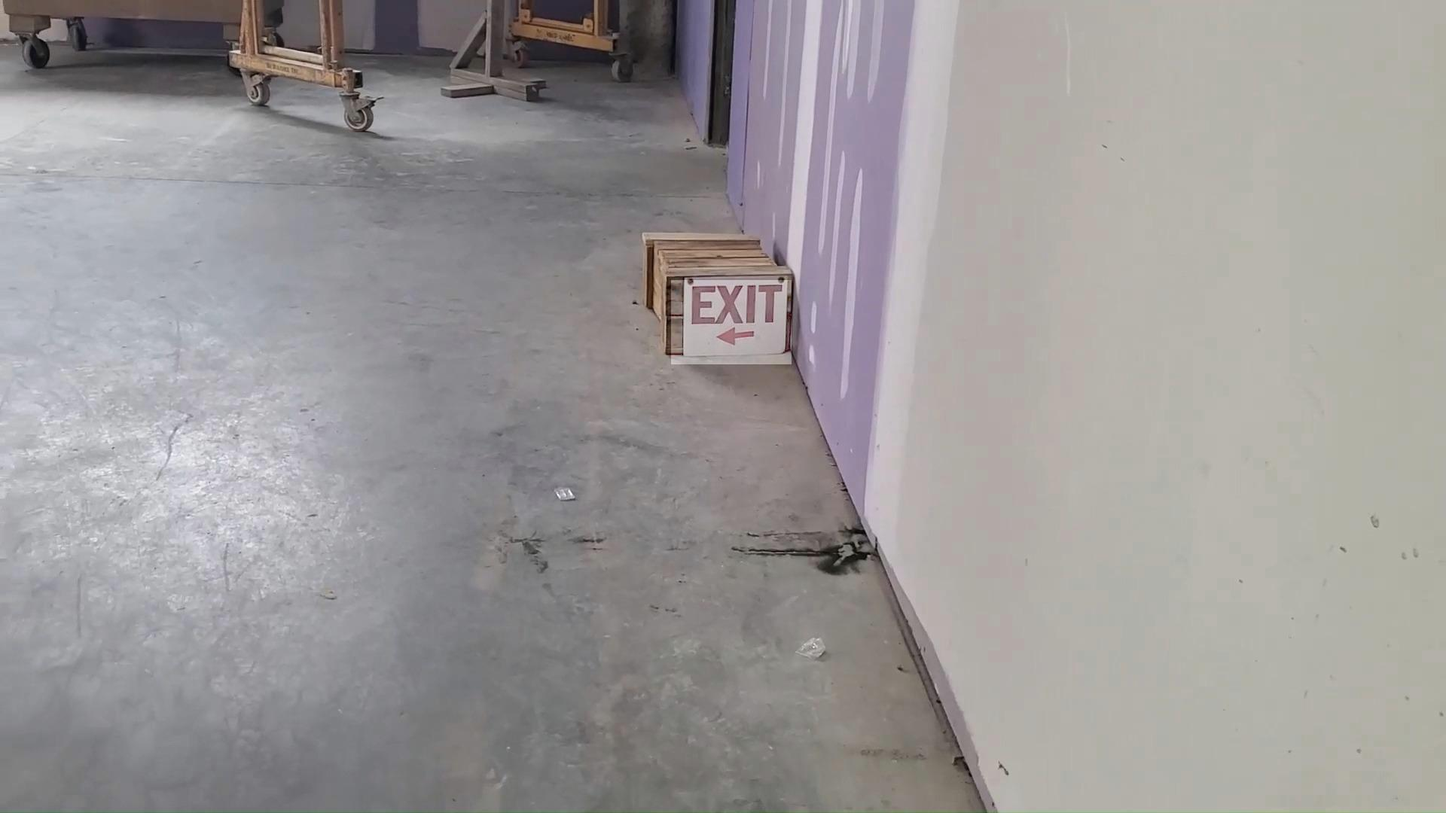exit_sign: (671, 280, 792, 364)
